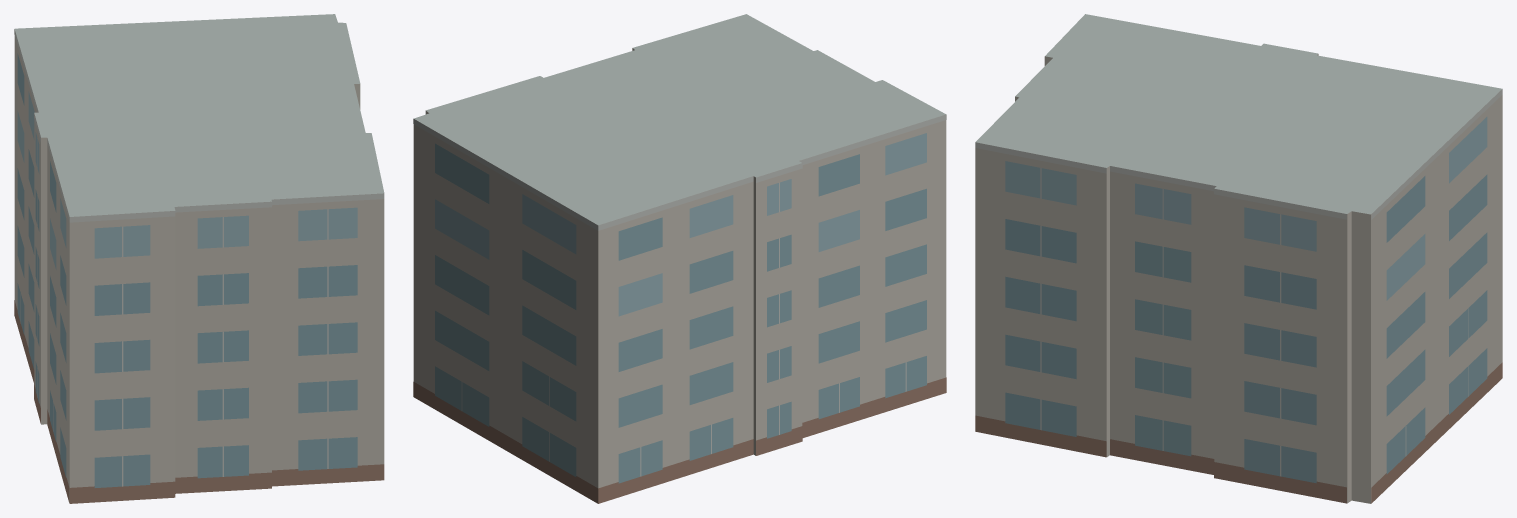
Rendered from survey-upis-32887548.glb.
3 views of the same model, side by side, from view 1: azimuth 30°, elevation 25°; view 2: azimuth 150°, elevation 25°; view 3: azimuth 270°, elevation 25° (orthographic). The views are drawn at different scales.
Visible parts, largest first — view 1: survey-upis-32887548.tmp; view 2: survey-upis-32887548.tmp; view 3: survey-upis-32887548.tmp.
Part boxes in pixels (box(x1,y1,x2,y2)): survey-upis-32887548.tmp: box(14, 14, 384, 503); survey-upis-32887548.tmp: box(413, 14, 946, 503); survey-upis-32887548.tmp: box(975, 14, 1502, 503).
Bounding box in the file's own units: 18.43 × 12.4 × 20.49.
